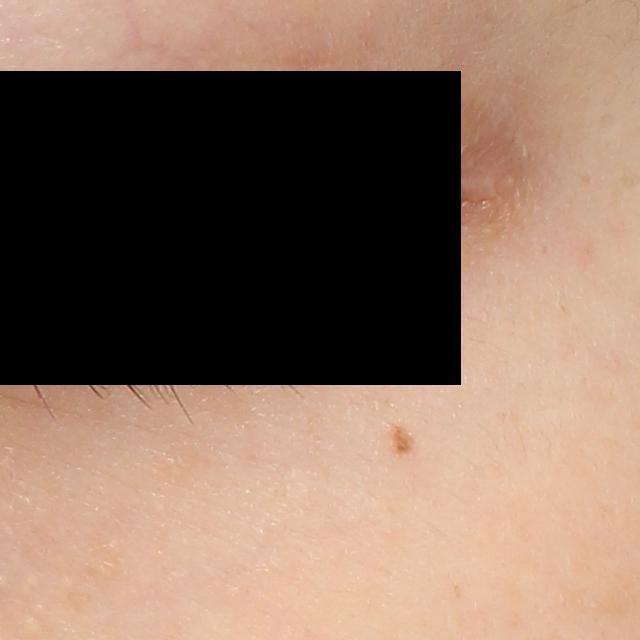nevus: (385, 425, 421, 461)
